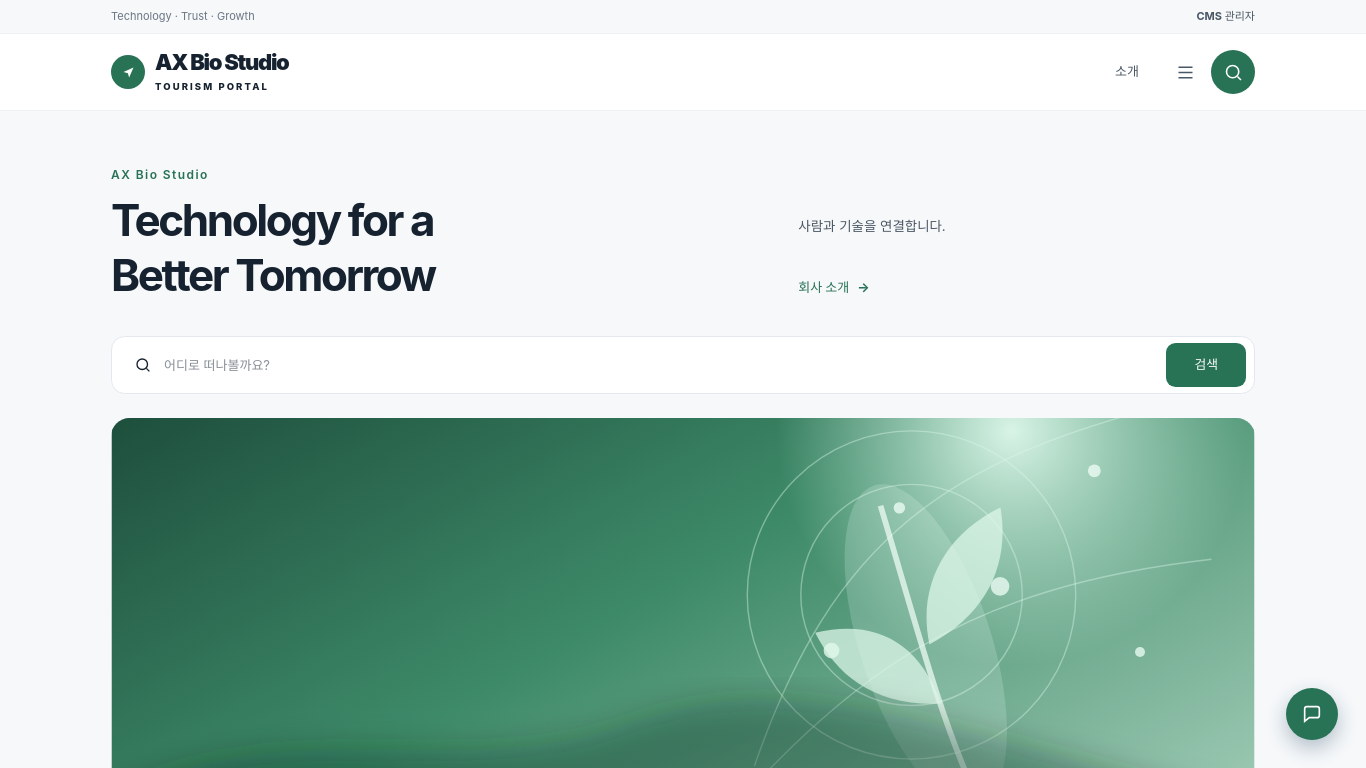
Test case: the tour helper carries no standing notice above the conversation
The width and height of the screenshot is (1366, 768).
Click the button named "관광 도우미 열기" at point(1312, 714), box [1286,688,1338,740]
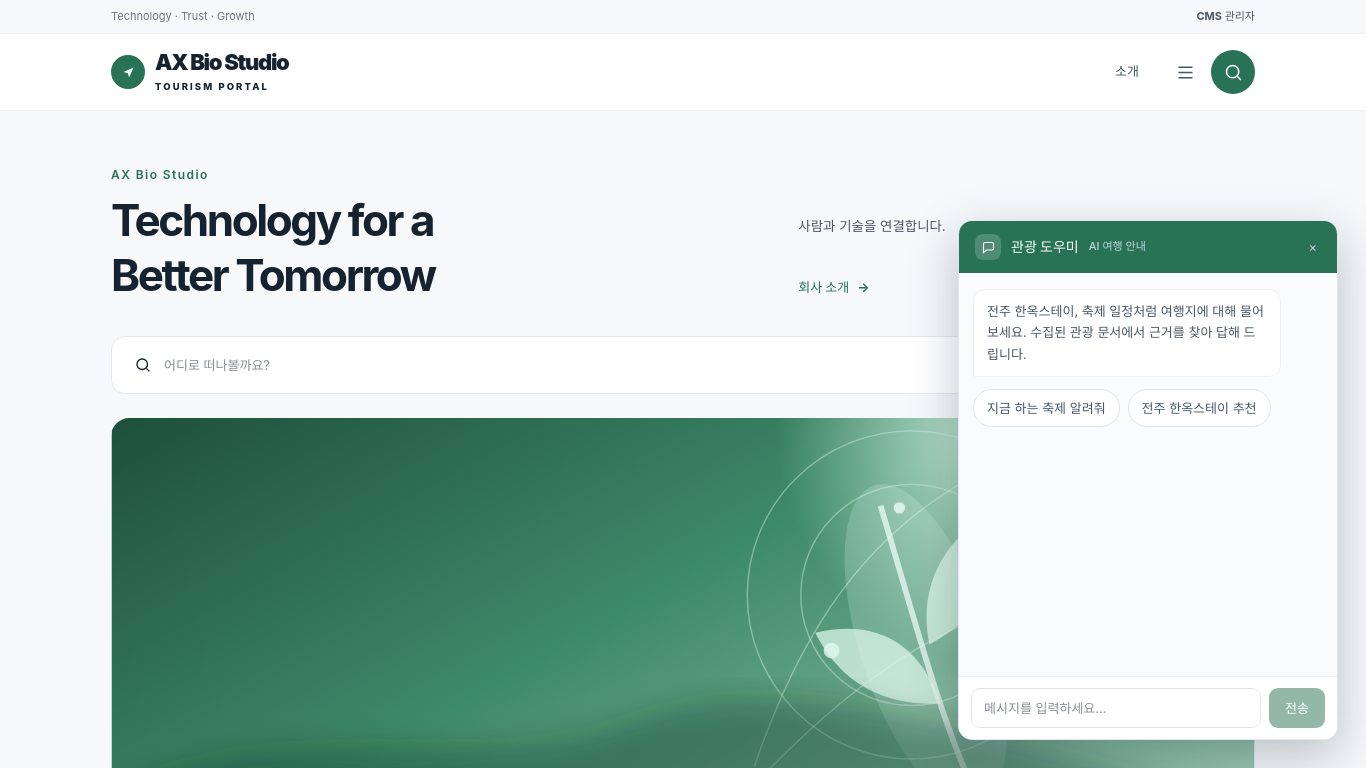
Now the text "전주 한옥스테이, 축제 일정처럼 여행지에 대해 물어보세요. 수집된 관광 문서에서 근거를 찾아 답해 드립니다." is shown, box [973,289,1281,377]
